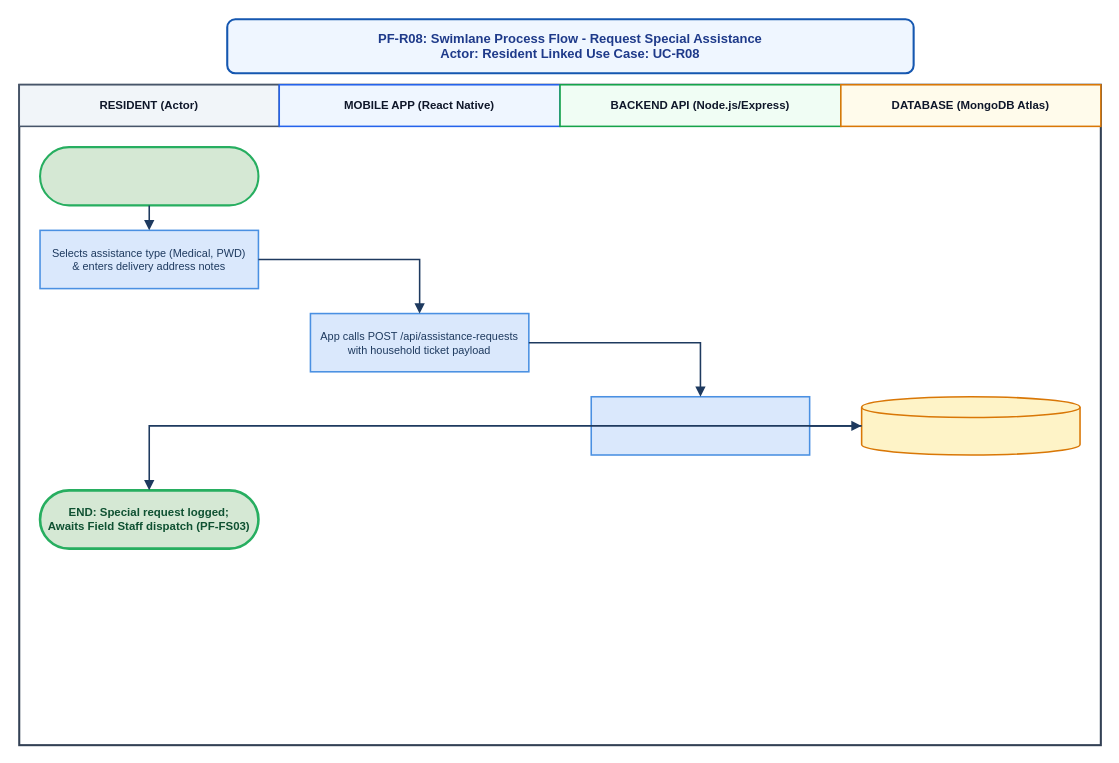
Image size: 1119x763. Some labels were removed from this diagram. The shapes that lost their labels are listed below. From the top down, each one's centre as x and y in pixels, then its label:
(148,176): START: Opens Special Assistance
(700,425): Express controller queues request; Emits Socket.IO alert to Barangay
(970,425): MongoDB: Creates AssistanceRequest (status: "pending")
